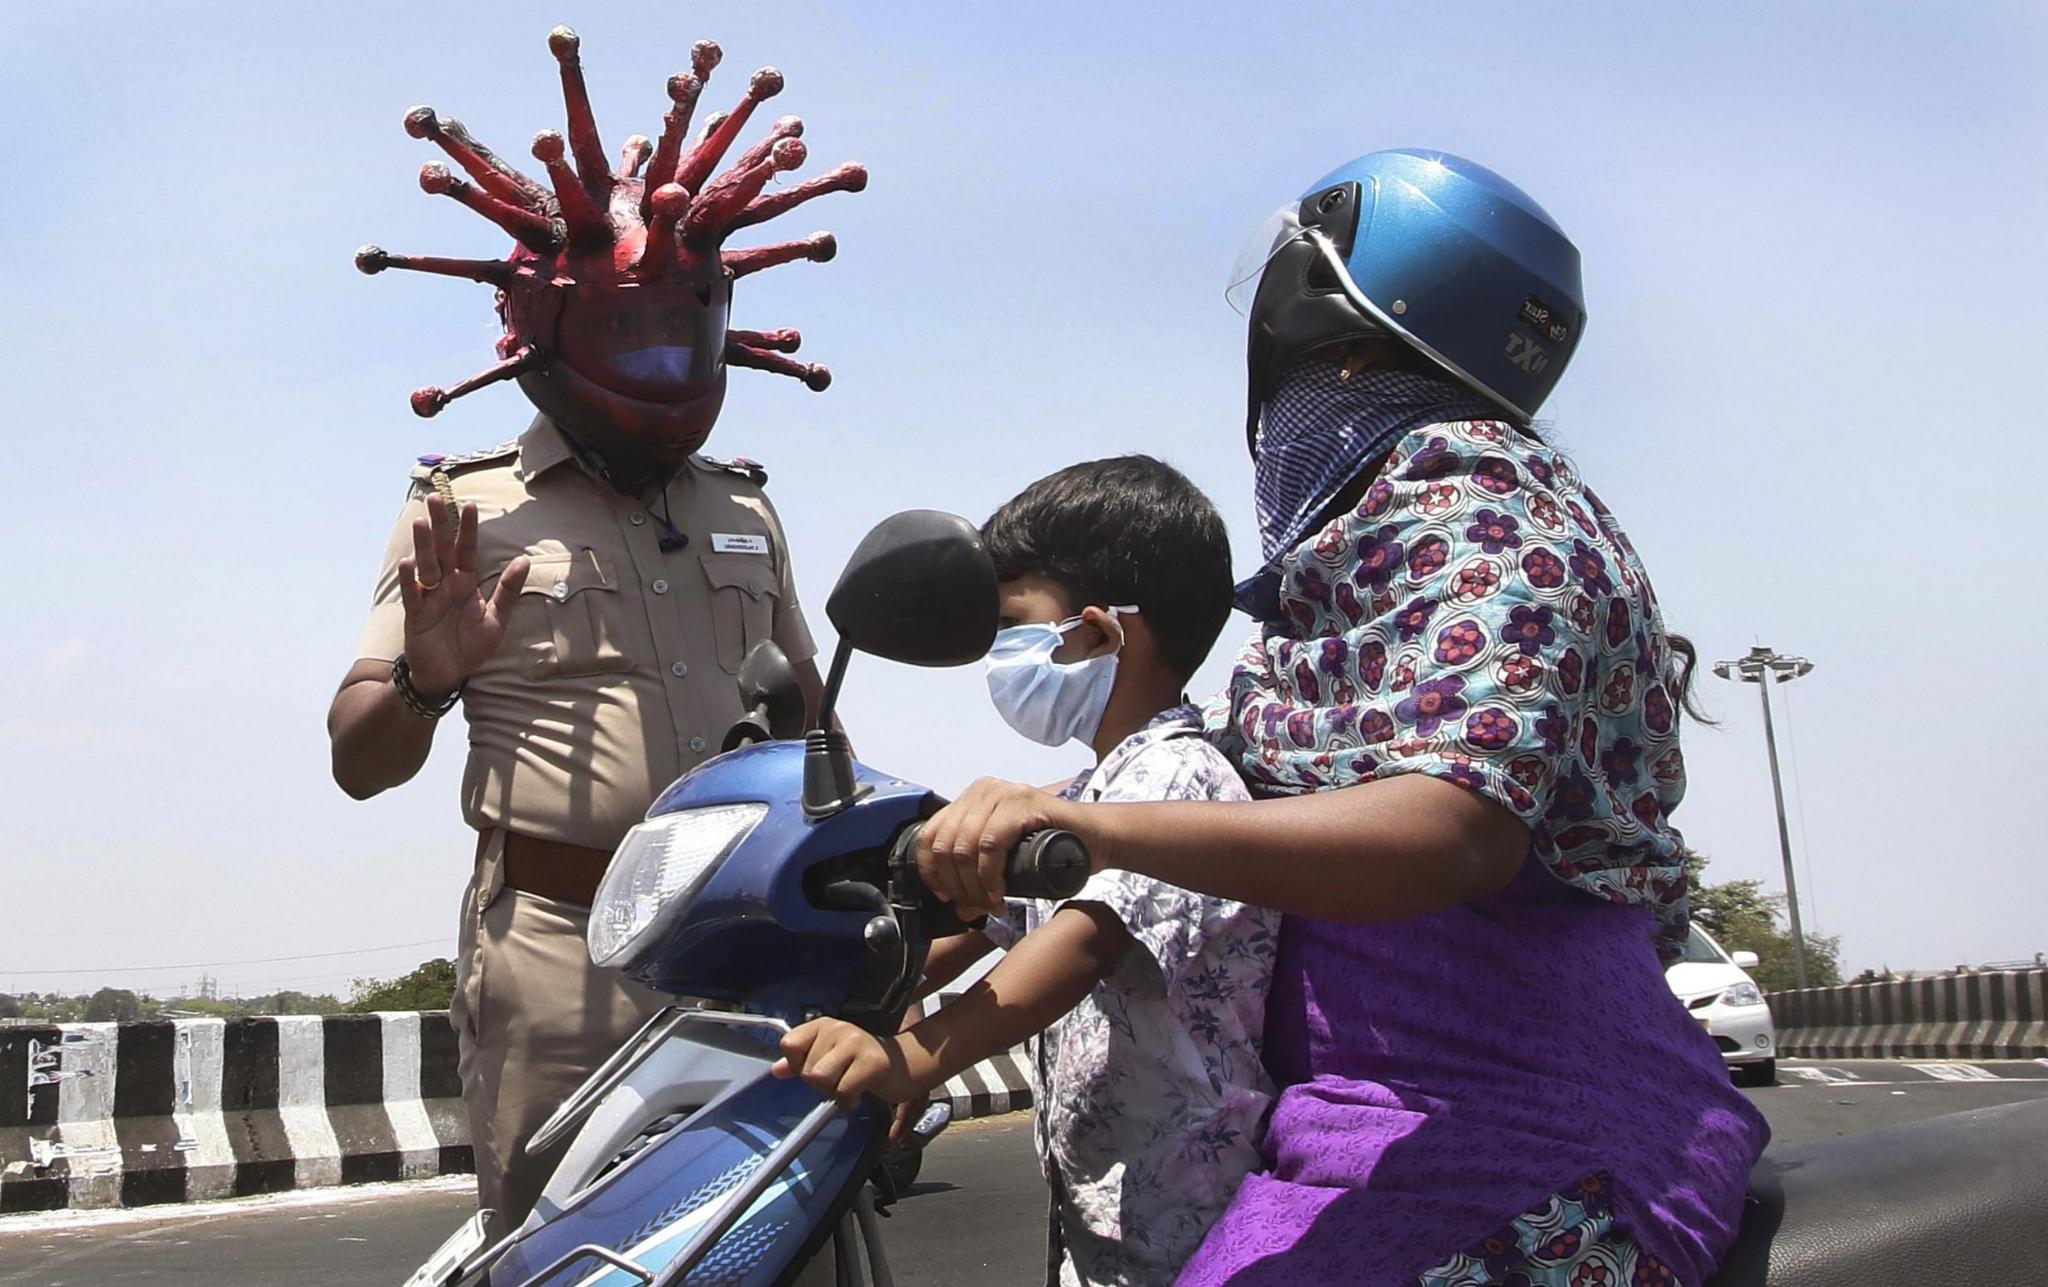Helmet: (1252, 147, 1592, 523)
